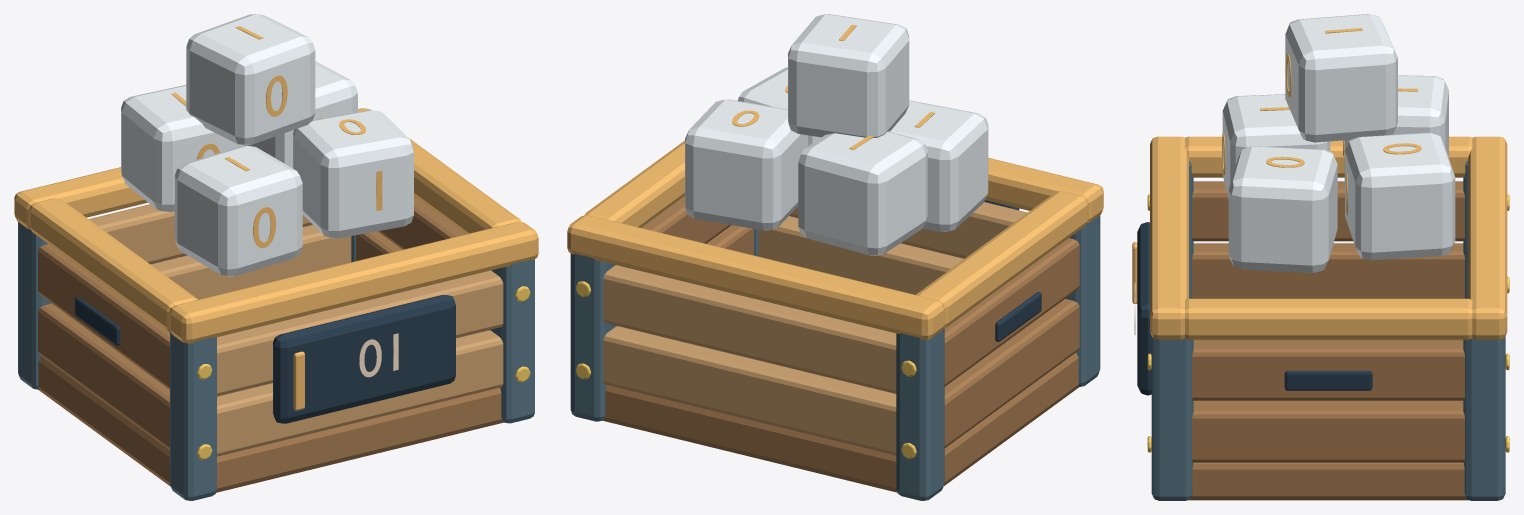
File: binary_sugar.glb
The picture shows the model from 3 angles, left to right: view 1: azimuth 30°, elevation 25°; view 2: azimuth 150°, elevation 25°; view 3: azimuth 270°, elevation 25°; orthographic projection. The views are drawn at different scales.
Visible parts, largest first — view 1: Binary sugar cube, Colored rim.004, Side wood plank.004, Horizontal wood plank.004, Front sign.001, Reinforced corner.004, Copper rivet.008, Label 01; view 2: Binary sugar cube, Horizontal wood plank.004, Side wood plank.004, Colored rim.004, Reinforced corner.004, Front sign.001, Copper rivet.008; view 3: Side wood plank.004, Binary sugar cube, Colored rim.004, Reinforced corner.004, Front sign.001, Copper rivet.008.
Part boxes in pixels (bbox=[...]): Binary sugar cube: bbox=[121, 14, 413, 276]; Colored rim.004: bbox=[14, 26, 538, 410]; Side wood plank.004: bbox=[38, 196, 503, 492]; Horizontal wood plank.004: bbox=[89, 204, 503, 456]; Front sign.001: bbox=[75, 295, 455, 423]; Reinforced corner.004: bbox=[18, 222, 534, 500]; Copper rivet.008: bbox=[197, 286, 530, 459]; Label 01: bbox=[359, 333, 398, 377]; Binary sugar cube: bbox=[685, 14, 988, 255]; Horizontal wood plank.004: bbox=[603, 202, 1027, 455]; Side wood plank.004: bbox=[603, 196, 1079, 492]; Colored rim.004: bbox=[567, 24, 1103, 339]; Reinforced corner.004: bbox=[570, 215, 1100, 500]; Front sign.001: bbox=[984, 200, 1041, 341]; Copper rivet.008: bbox=[575, 281, 916, 458]; Side wood plank.004: bbox=[1188, 181, 1468, 500]; Binary sugar cube: bbox=[1222, 14, 1455, 273]; Colored rim.004: bbox=[1132, 28, 1507, 339]; Reinforced corner.004: bbox=[1151, 161, 1505, 500]; Front sign.001: bbox=[1137, 222, 1372, 395]; Copper rivet.008: bbox=[1147, 194, 1509, 452].
Bounding box in the file's own units: 1.32 × 1.28 × 1.16.
